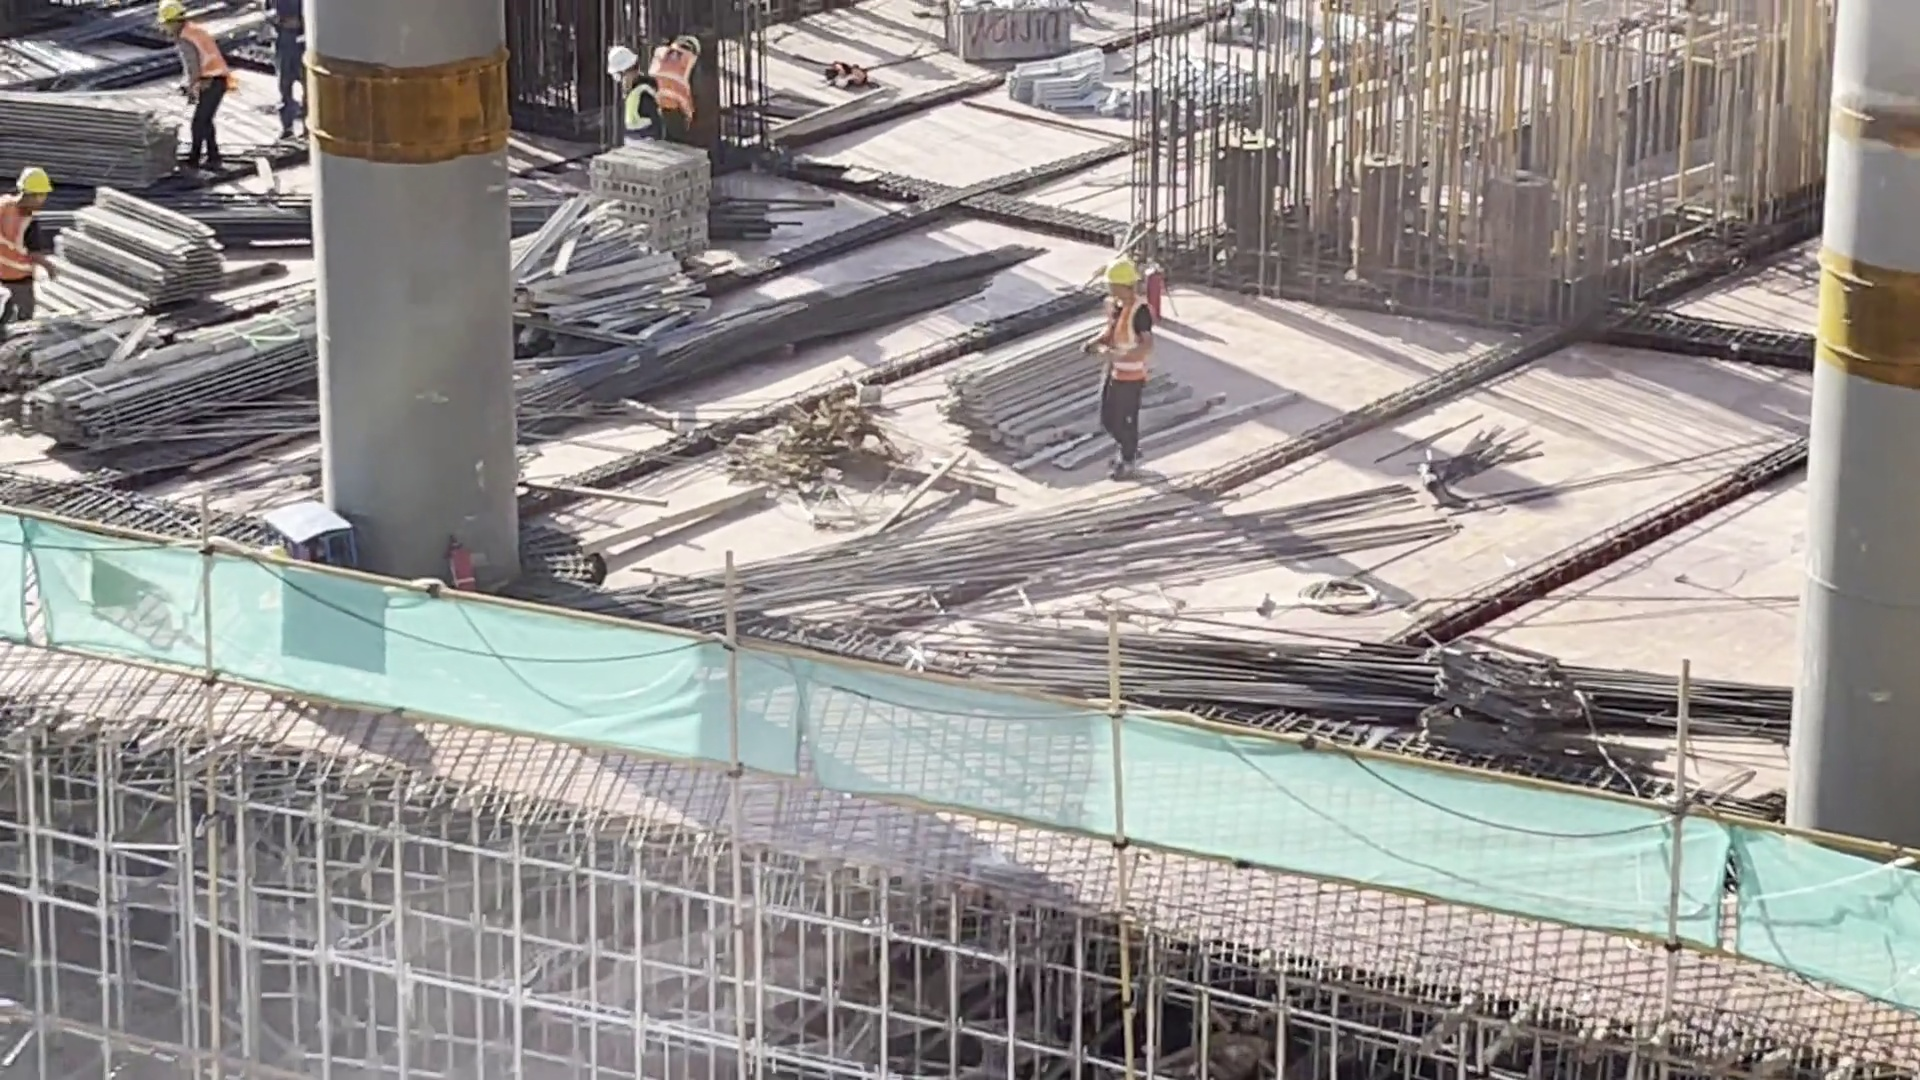helmet: (18, 161, 58, 211), (1109, 262, 1136, 297), (599, 49, 634, 74), (152, 2, 184, 23), (681, 31, 709, 54)
person: (1098, 258, 1153, 468), (189, 1, 248, 165), (1, 170, 59, 298), (269, 1, 319, 136), (656, 18, 701, 138), (604, 38, 654, 145)
vest: (1093, 294, 1158, 369), (654, 42, 696, 124), (1, 198, 33, 282), (183, 26, 226, 86), (628, 77, 661, 124), (269, 1, 294, 61)
